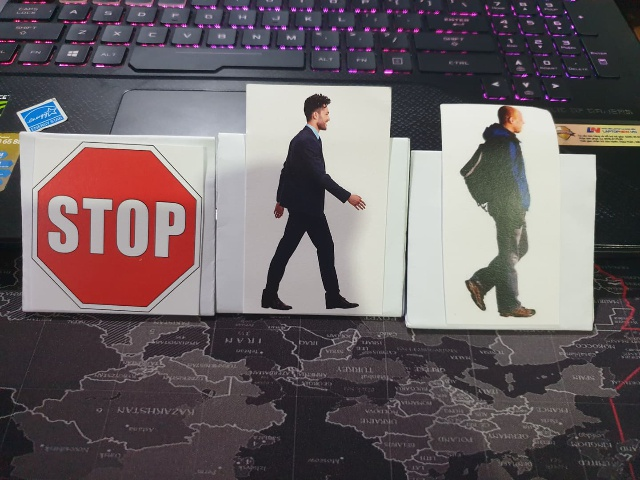Person: (252, 89, 374, 318), (447, 101, 548, 322)
Stop: (27, 138, 206, 313)
